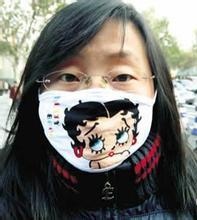OK: (41, 46, 155, 167)
